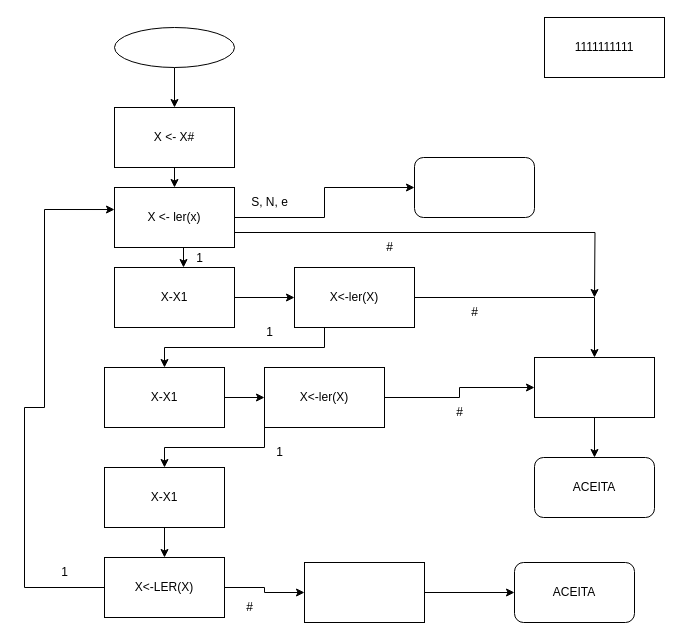
Some shapes in this 682 by 640 pixel diagram are drawn without their labels. The shapes that lost their labels are listed below. From the top down, each one's centre as x and y in pixels, then its label:
[174,47]: PARTIDA
[474,187]: RECUSA
[594,387]: X-XN
[364,592]: X-XS
